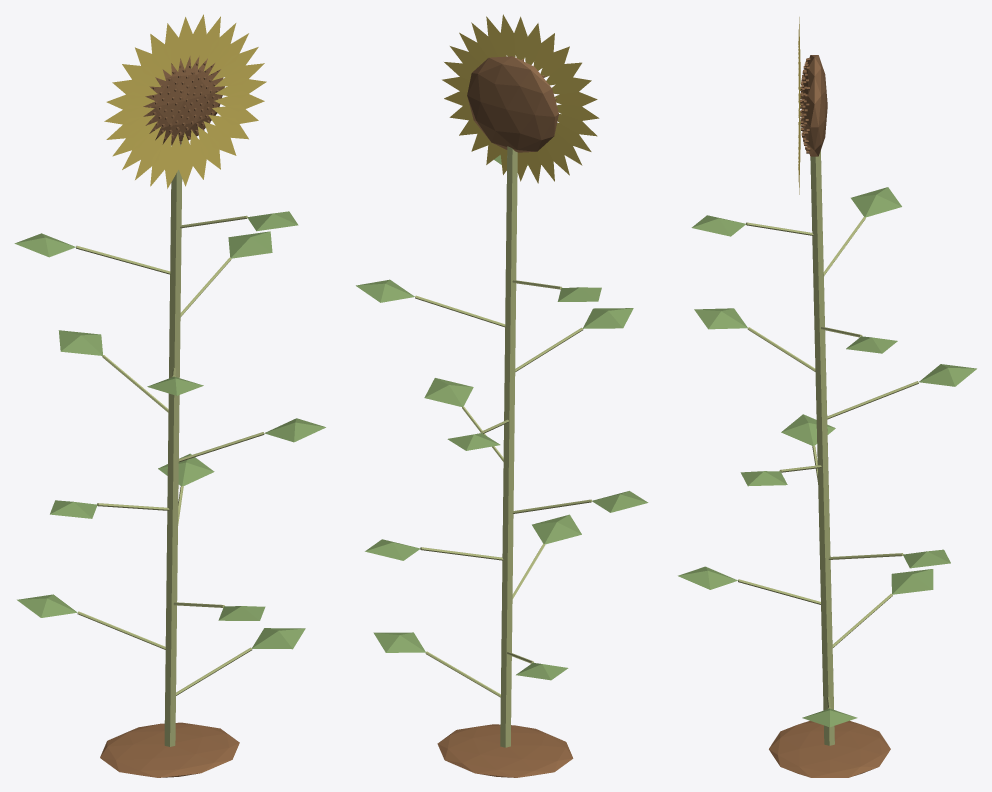
3 renders of one model, left to right at view 1: azimuth 30°, elevation 25°; view 2: azimuth 150°, elevation 25°; view 3: azimuth 270°, elevation 25°, orthographic. The views are drawn at different scales.
Parts seen in each view (by area): view 1: GF-567 Large spiral seed sunflower batched; view 2: GF-567 Large spiral seed sunflower batched; view 3: GF-567 Large spiral seed sunflower batched.
Boxes of the visible parts, bbox=[...] form: GF-567 Large spiral seed sunflower batched: bbox=[14, 14, 325, 777]; GF-567 Large spiral seed sunflower batched: bbox=[356, 14, 648, 777]; GF-567 Large spiral seed sunflower batched: bbox=[678, 17, 976, 777].
Bounding box in the file's own units: 0.5954 × 1.59 × 0.5885.
